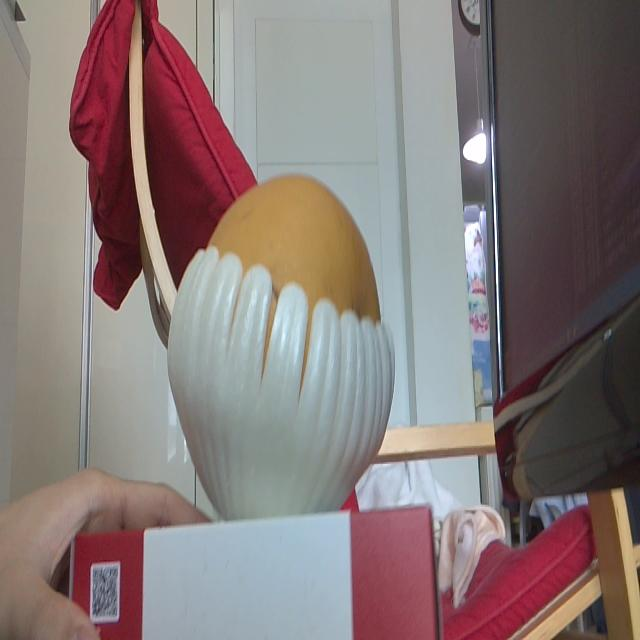pear: (167, 172, 399, 518)
